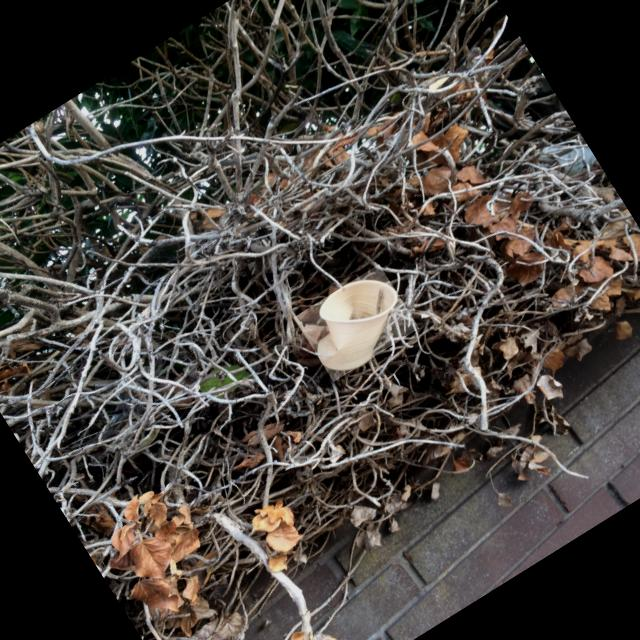Cup: (317, 280, 398, 371)
